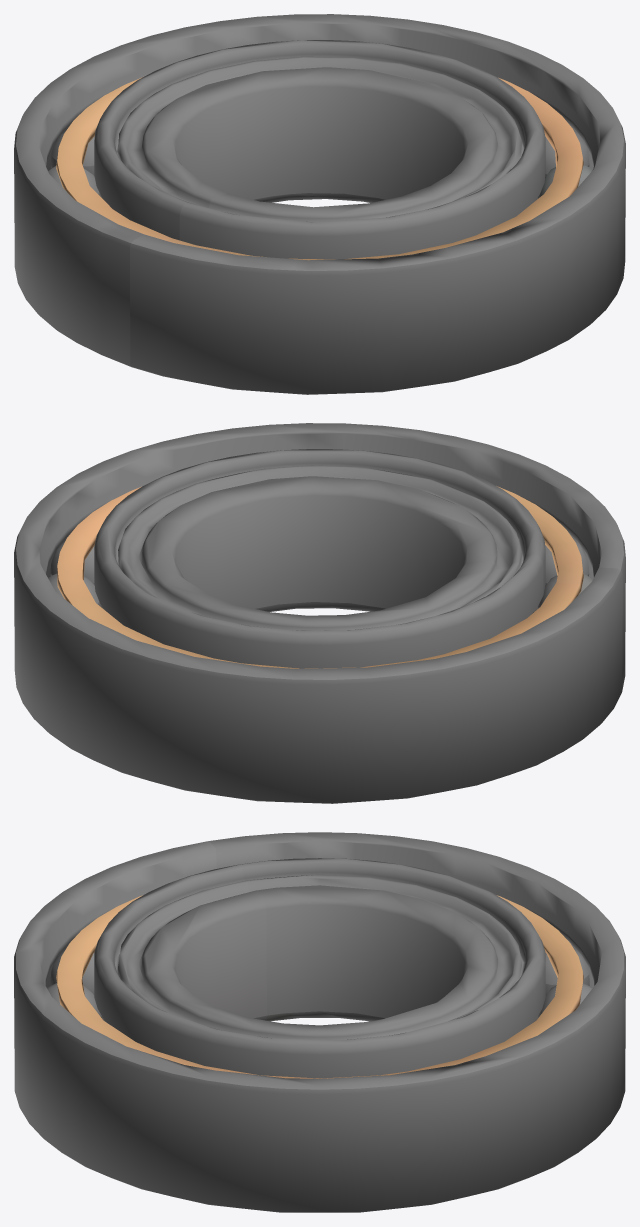
Rendered from consumable_bearing_ball_c01.glb.
The picture shows the model from 3 angles, top to bottom: view 1: azimuth 30°, elevation 25°; view 2: azimuth 150°, elevation 25°; view 3: azimuth 270°, elevation 25°; orthographic projection.
Visible parts, largest first — view 1: part0; view 2: part0; view 3: part0.
Boxes of the visible parts, x1=… form: part0: x1=14, y1=14, x2=625, y2=394; part0: x1=14, y1=423, x2=625, y2=803; part0: x1=14, y1=832, x2=625, y2=1212.
Size of the model in its own units: 0.0309 by 0.00758 by 0.0308.
1 material, 1 textured.
